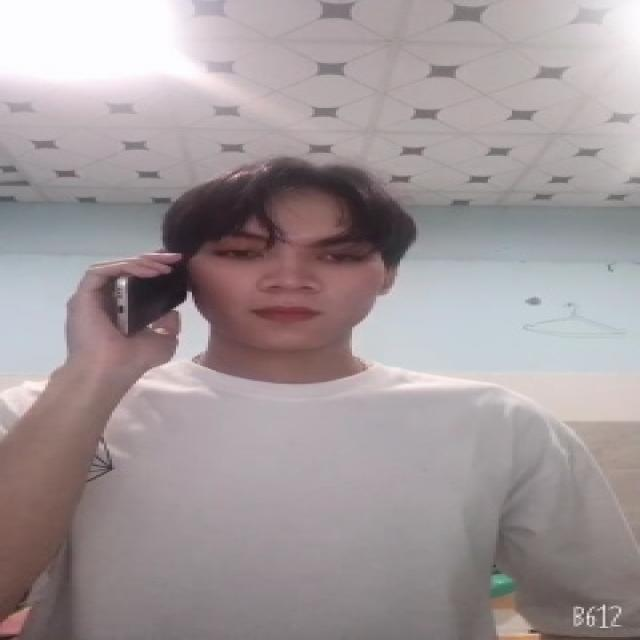Phone: (110, 247, 192, 340)
